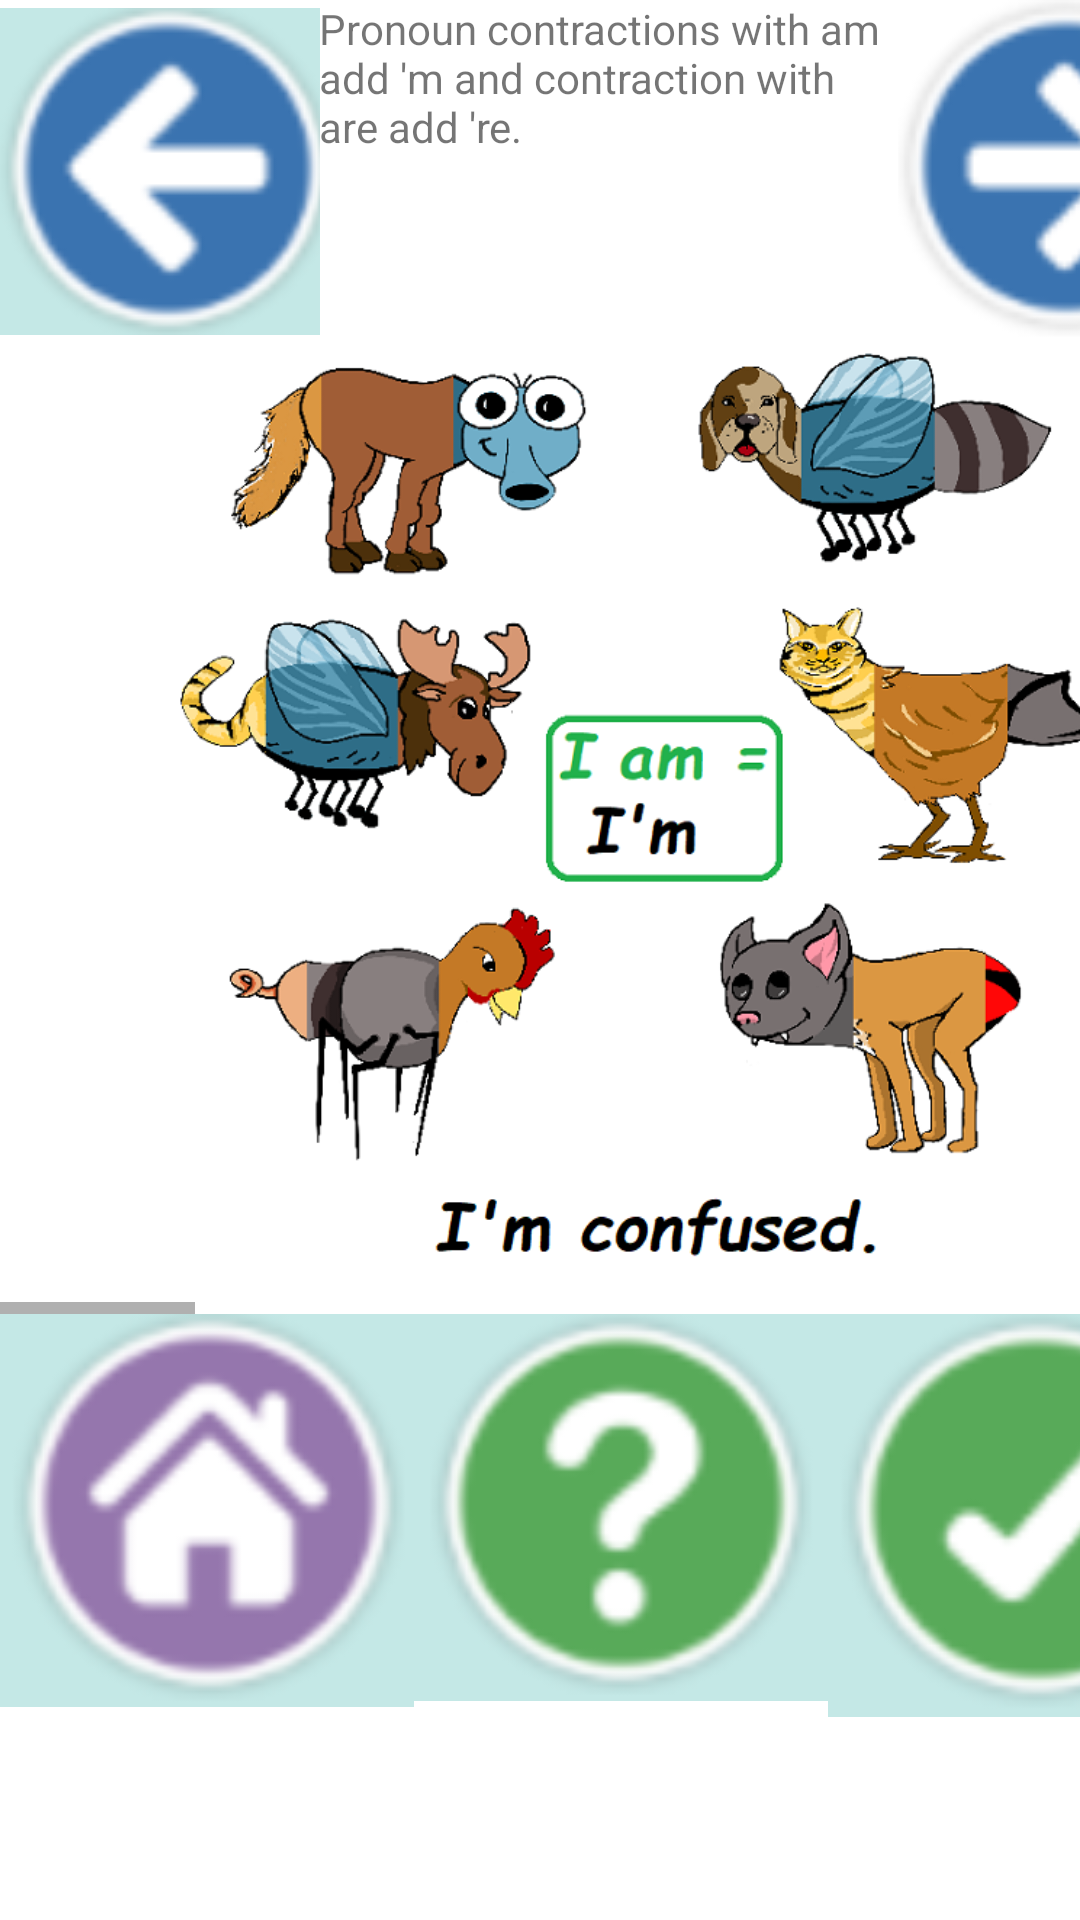

Icon bounding boxes for this 1080 × 1920 phone screenshot, format box(x1, y1, x2, y2):
back: box(0, 8, 320, 335)
